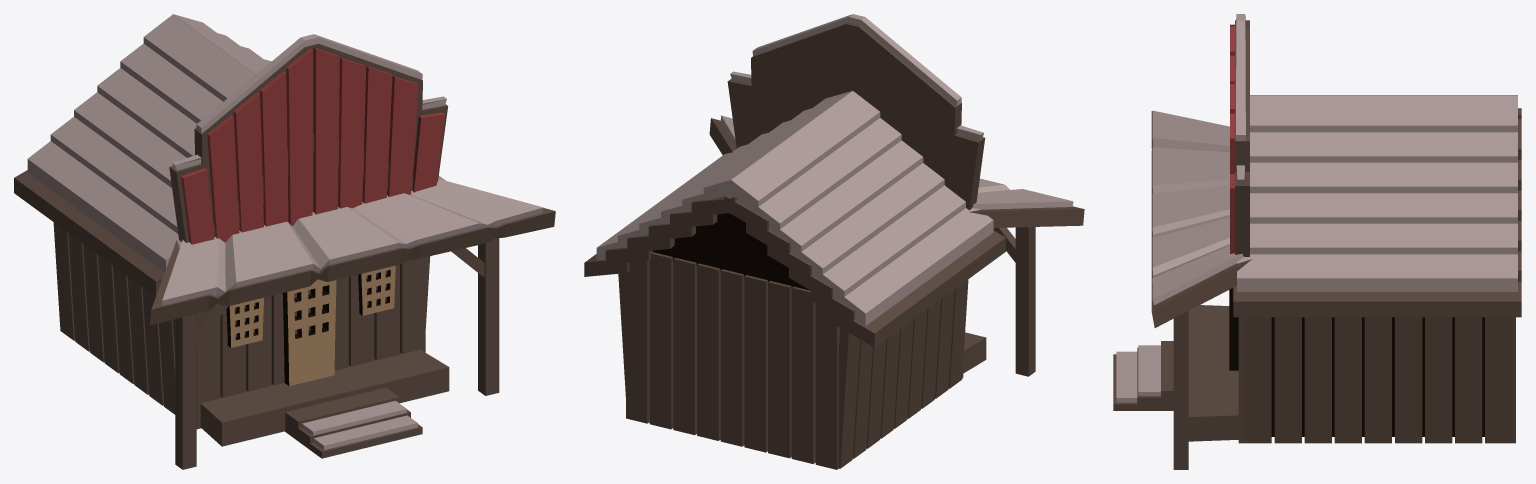
Rendered from Saloon.fbx.
3 renders of one model, left to right at view 1: azimuth 30°, elevation 25°; view 2: azimuth 150°, elevation 25°; view 3: azimuth 270°, elevation 25°, orthographic. The views are drawn at different scales.
Visible parts, largest first — view 1: Cube.024, Cube.025, Plane.014, Cube.023, Cube.022, Cube.017, Plane.010, door, Cube.021, Plane.009, Cube.016, Cube.019 (+6 smaller); view 2: Cube.025, Cube.023, Plane.009, Cube.022, Cube.021, Cube.014, Cube.019, Plane.011, Plane.010, Plane.014, Cube.017; view 3: Cube.025, Cube.022, Plane.014, Cube.021, Cube.017, Cube.014, Cube.015, Plane.010, Plane.009, Cube.032, Cube.016, Plane.011 (+2 smaller).
Boxes of the visible parts, x1,y1,x2,y2 form: Cube.024: (181, 47, 444, 244); Cube.025: (27, 14, 445, 272); Plane.014: (161, 179, 543, 305); Cube.023: (196, 257, 425, 429); Cube.022: (53, 222, 430, 414); Cube.017: (200, 350, 449, 446); Plane.010: (149, 208, 555, 325); door: (282, 279, 336, 386); Cube.021: (14, 135, 413, 296); Plane.009: (169, 43, 448, 242); Cube.016: (285, 387, 422, 458); Cube.019: (175, 314, 196, 469); Cube.025: (596, 91, 993, 325); Cube.023: (626, 252, 963, 469); Plane.009: (727, 23, 985, 210); Cube.022: (618, 273, 968, 468); Cube.021: (584, 194, 1005, 347); Cube.014: (653, 213, 809, 290); Cube.019: (1015, 227, 1035, 376); Plane.011: (730, 14, 983, 140); Plane.010: (709, 118, 1084, 227); Plane.014: (720, 115, 1073, 209); Cube.017: (963, 332, 986, 373); Cube.025: (1237, 95, 1517, 291); Cube.022: (1244, 317, 1512, 443); Plane.014: (1152, 110, 1243, 305); Cube.021: (1233, 108, 1521, 317); Cube.017: (1188, 305, 1238, 441); Cube.014: (1271, 317, 1484, 436); Cube.015: (1173, 311, 1188, 469); Plane.010: (1151, 111, 1251, 327); Plane.009: (1235, 20, 1249, 256); Cube.032: (1116, 345, 1160, 402); Cube.016: (1113, 341, 1173, 410); Plane.011: (1236, 14, 1245, 184).
Size of the model in its own units: 1738 by 1516 by 1495.
